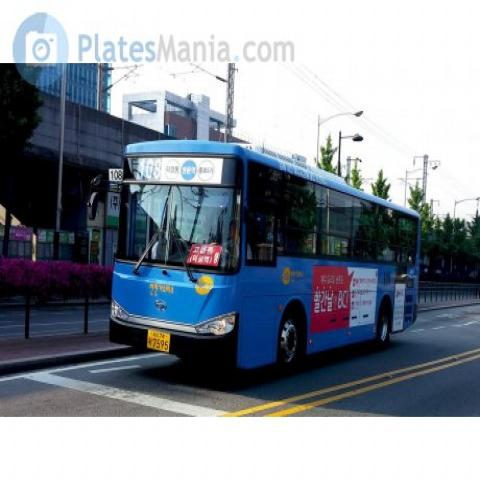LP: (142, 322, 175, 359)
